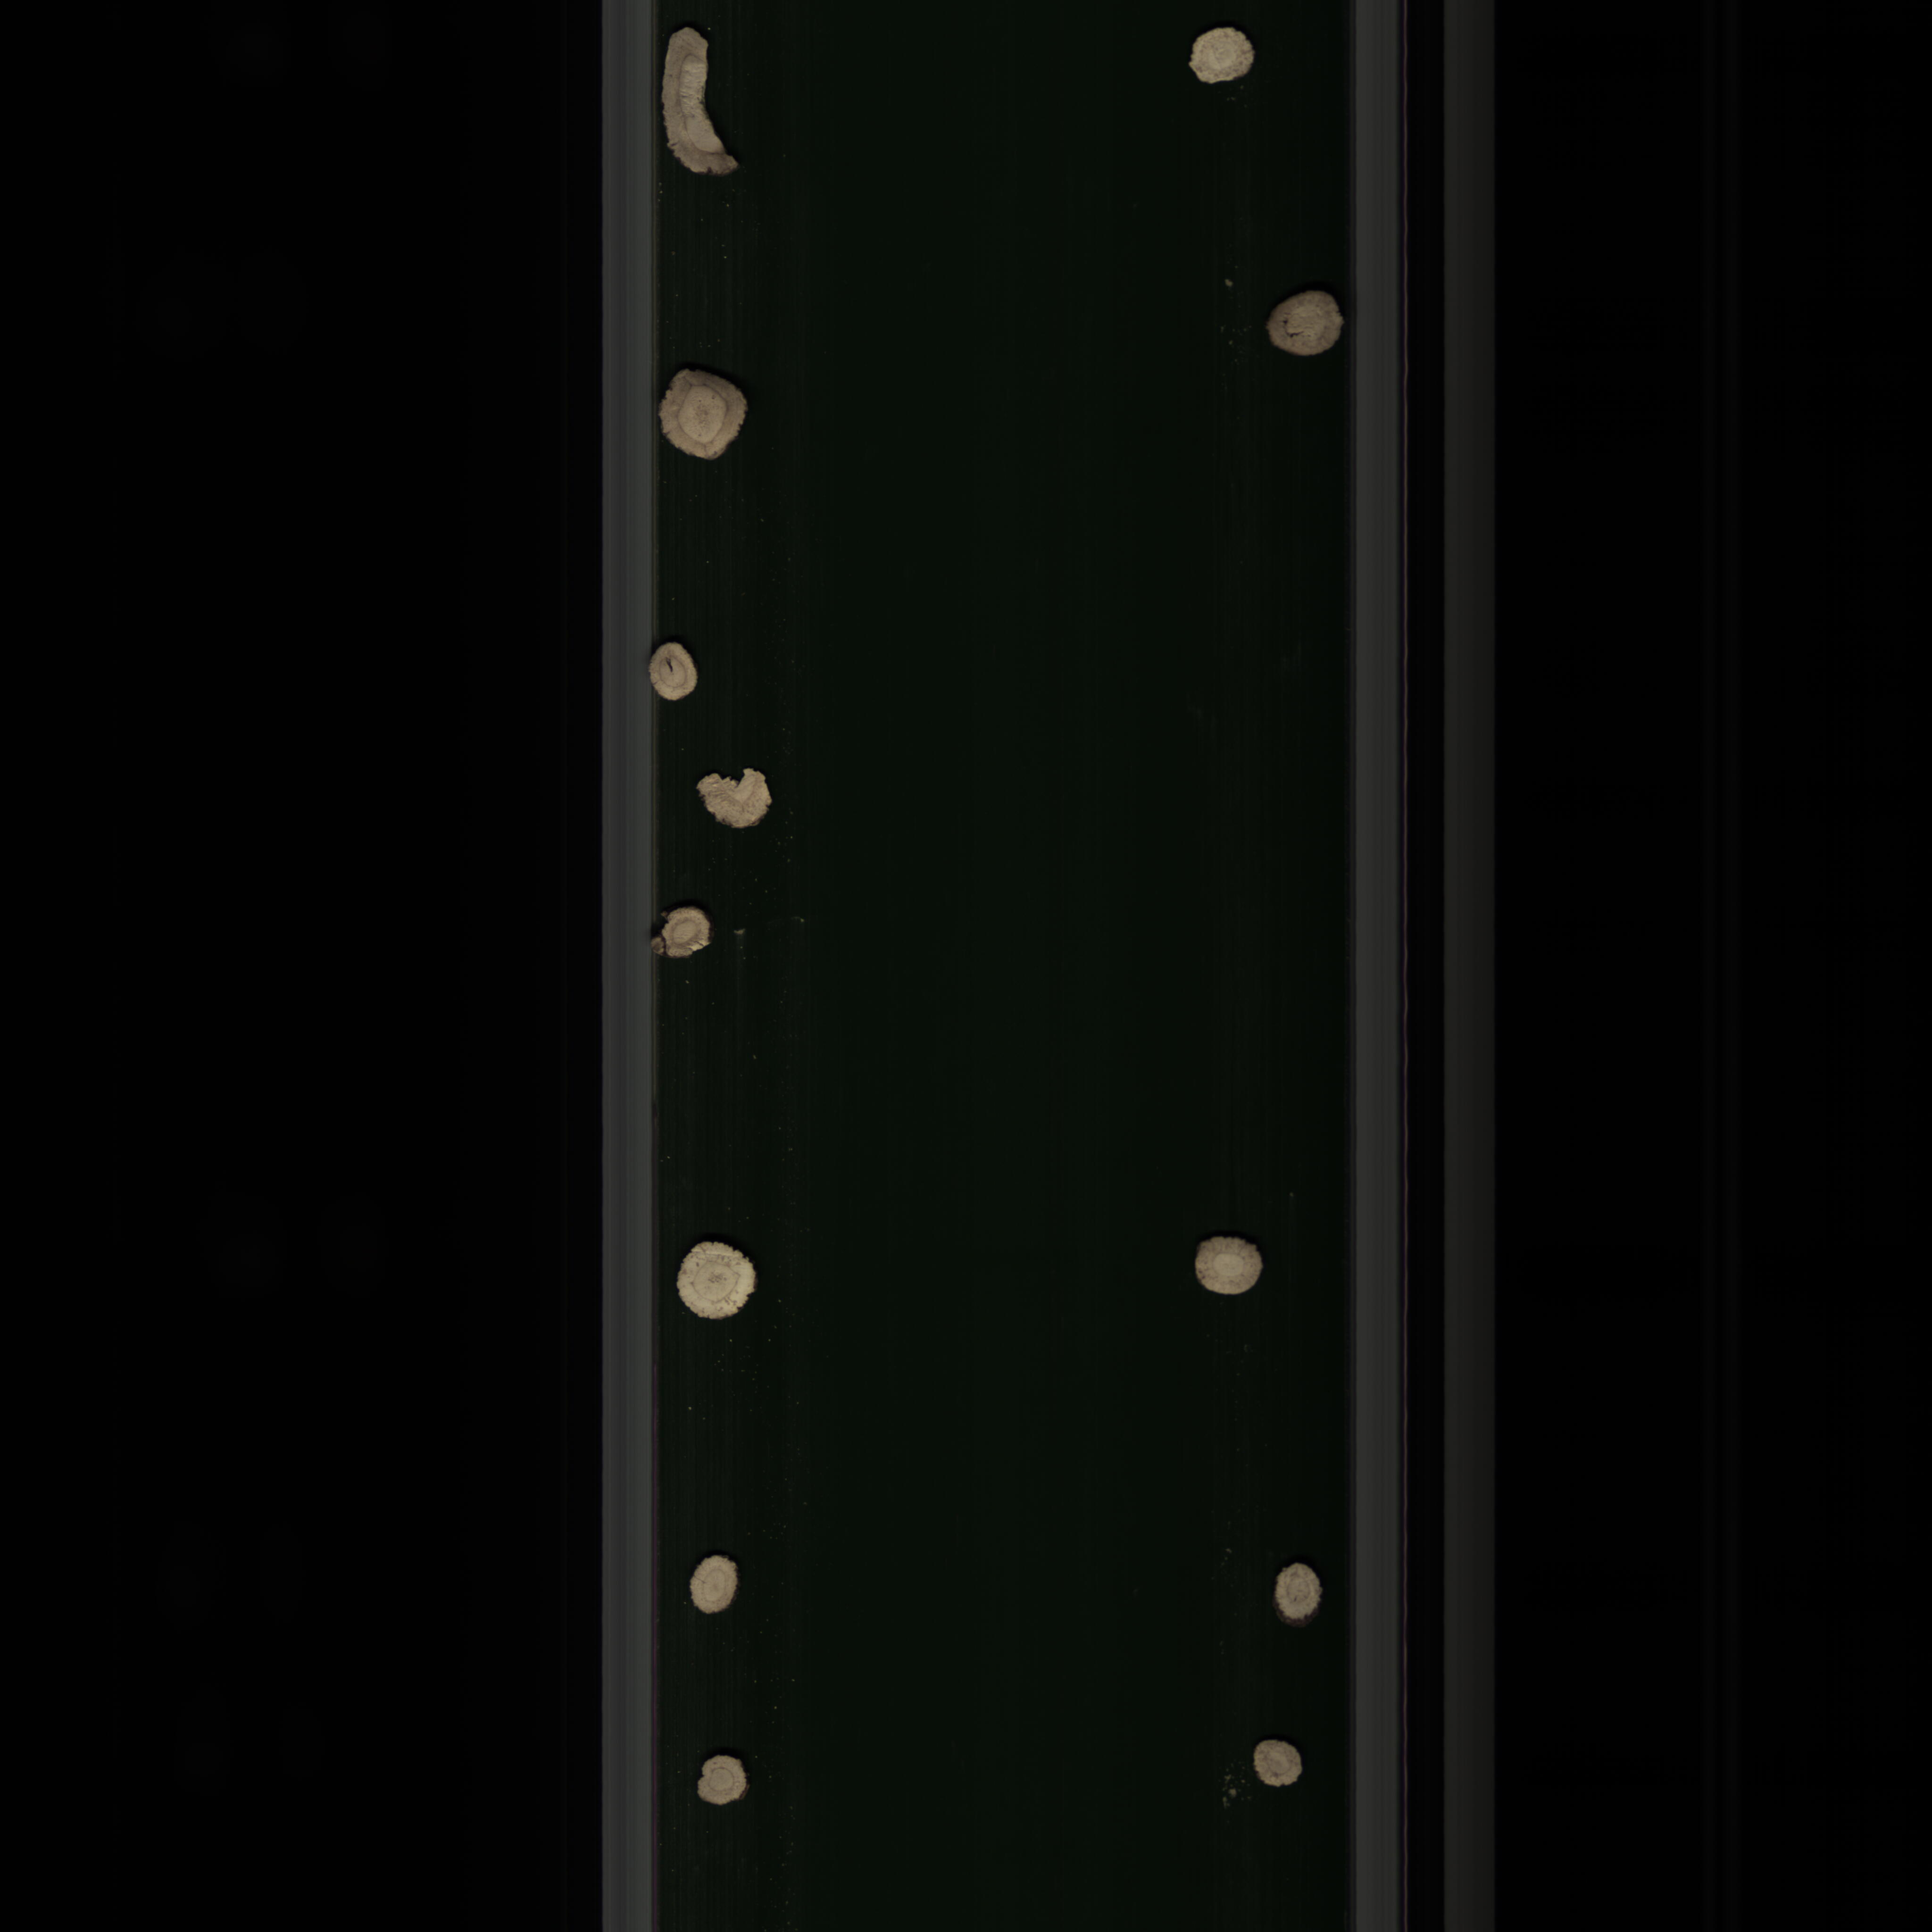debris: (694, 766, 786, 840)
distortion: (639, 901, 722, 964)
hole: (649, 644, 699, 704)
moldy: (644, 18, 752, 200), (1261, 287, 1352, 372)
